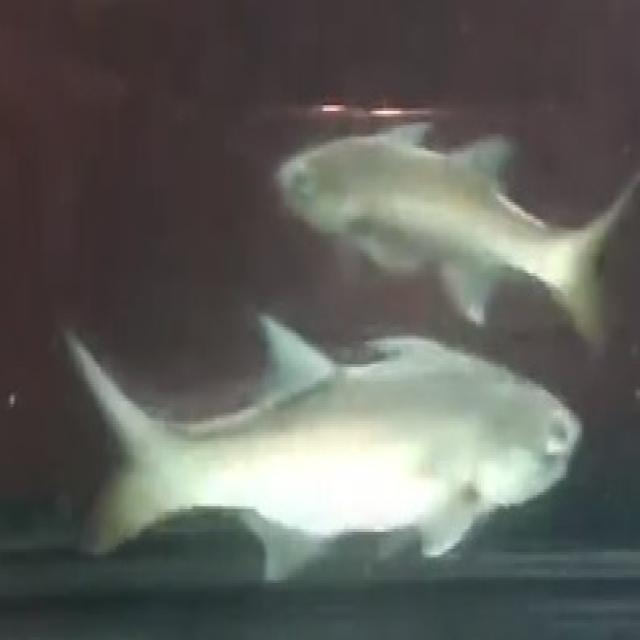Fourfinger-Threadfin: (33, 264, 607, 604), (249, 60, 640, 352)
